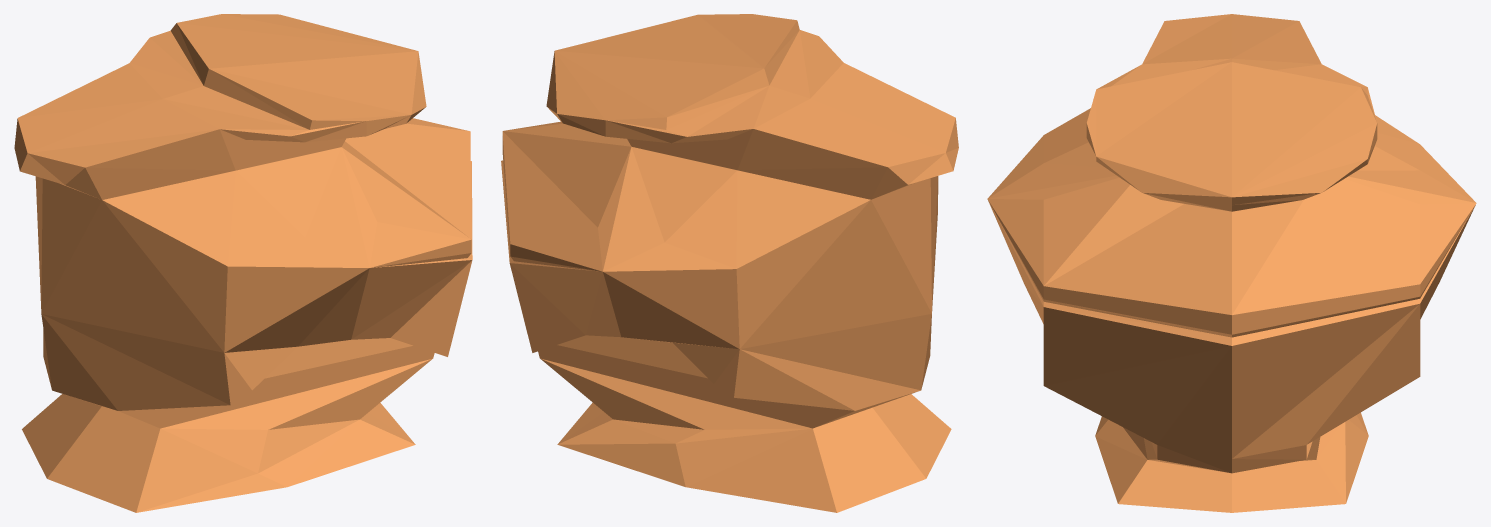
File: Rock_Large_Canyon_Eroded_17.FBX
3 views of the same model, side by side, from view 1: azimuth 30°, elevation 25°; view 2: azimuth 150°, elevation 25°; view 3: azimuth 270°, elevation 25° (orthographic).
Visible parts, largest first — view 1: Rock_Large_Canyon_Eroded_17; view 2: Rock_Large_Canyon_Eroded_17; view 3: Rock_Large_Canyon_Eroded_17.
Part boxes in pixels (<box>): Rock_Large_Canyon_Eroded_17: <box>14,14,472,512</box>; Rock_Large_Canyon_Eroded_17: <box>501,14,958,512</box>; Rock_Large_Canyon_Eroded_17: <box>987,14,1476,512</box>.
Size of the model in its own units: 13591 by 10647 by 12787.
